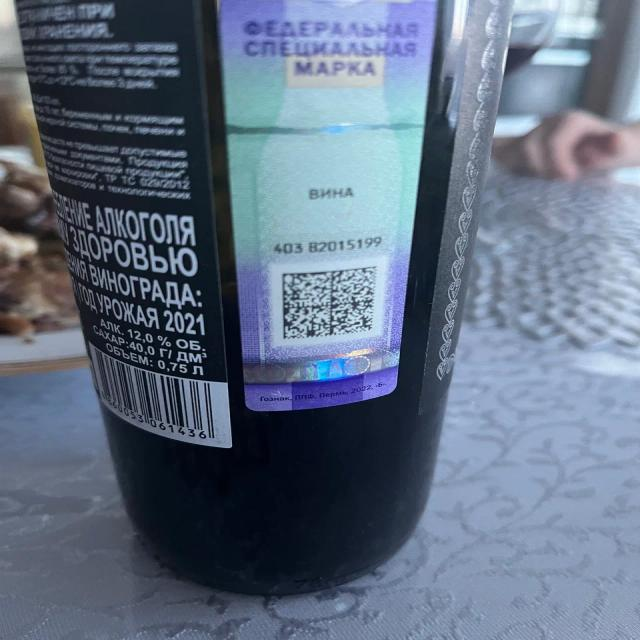datamatrix: (282, 263, 381, 342)
